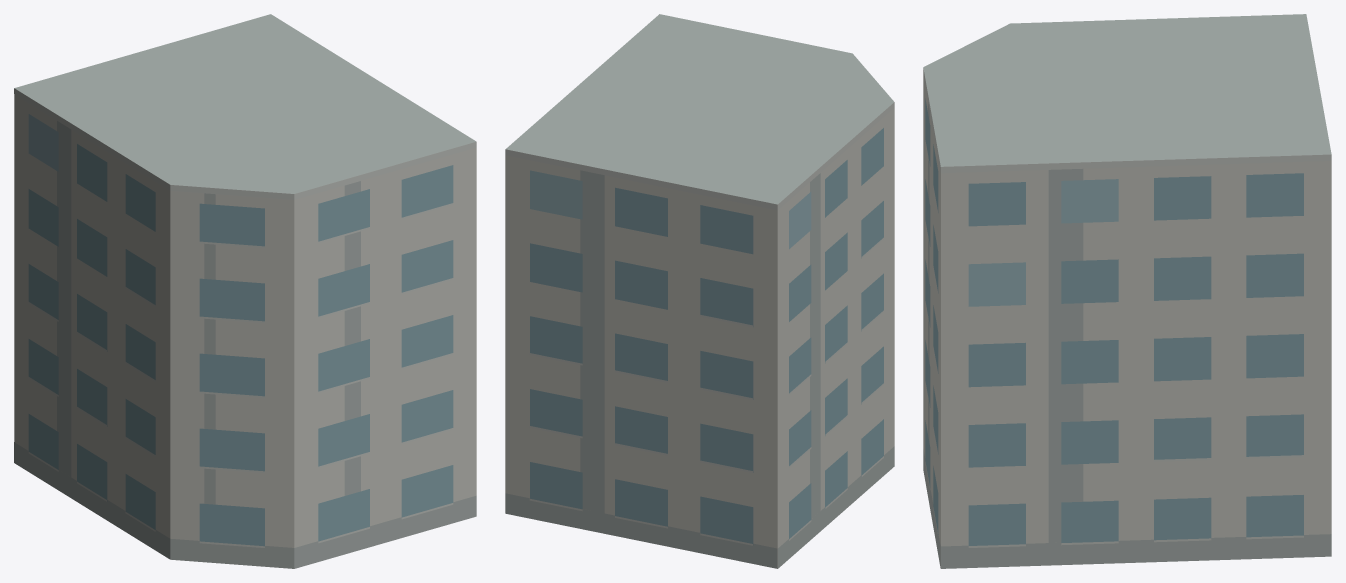
The model's file is residential-a3481144-287a-47b7-a894-8655d058e2d6.glb.
3 views of the same model, side by side, from view 1: azimuth 30°, elevation 25°; view 2: azimuth 150°, elevation 25°; view 3: azimuth 270°, elevation 25° (orthographic). The views are drawn at different scales.
Parts seen in each view (by area): view 1: residential-a3481144-287a-47b7-a894-8655d058e2d6.tmp; view 2: residential-a3481144-287a-47b7-a894-8655d058e2d6.tmp; view 3: residential-a3481144-287a-47b7-a894-8655d058e2d6.tmp.
Part boxes in pixels (x1,y1,x2,y2): residential-a3481144-287a-47b7-a894-8655d058e2d6.tmp: (14,14,476,568); residential-a3481144-287a-47b7-a894-8655d058e2d6.tmp: (505,14,894,568); residential-a3481144-287a-47b7-a894-8655d058e2d6.tmp: (923,14,1331,568).
Bounding box in the file's own units: 12.45 × 15.25 × 14.05.
